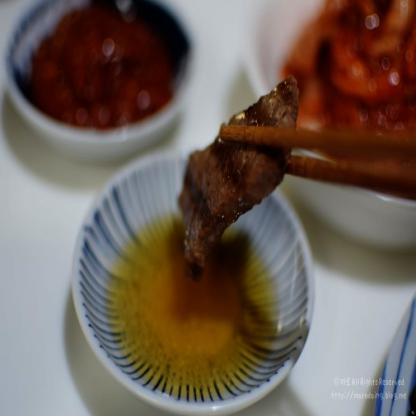Carne: (168, 71, 299, 266)
